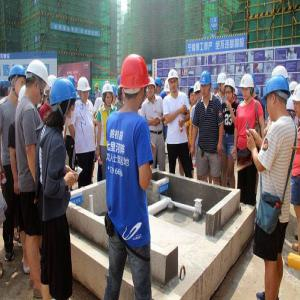blue: (49, 78, 79, 127), (264, 77, 291, 122), (9, 65, 28, 99), (199, 71, 213, 99), (155, 76, 163, 96)
red: (121, 55, 147, 111)
white: (26, 58, 49, 105), (240, 75, 255, 102), (78, 76, 91, 103), (224, 78, 236, 103), (102, 84, 114, 107), (169, 69, 180, 94), (293, 81, 300, 117), (146, 76, 156, 101), (218, 73, 228, 93), (194, 80, 202, 100)
